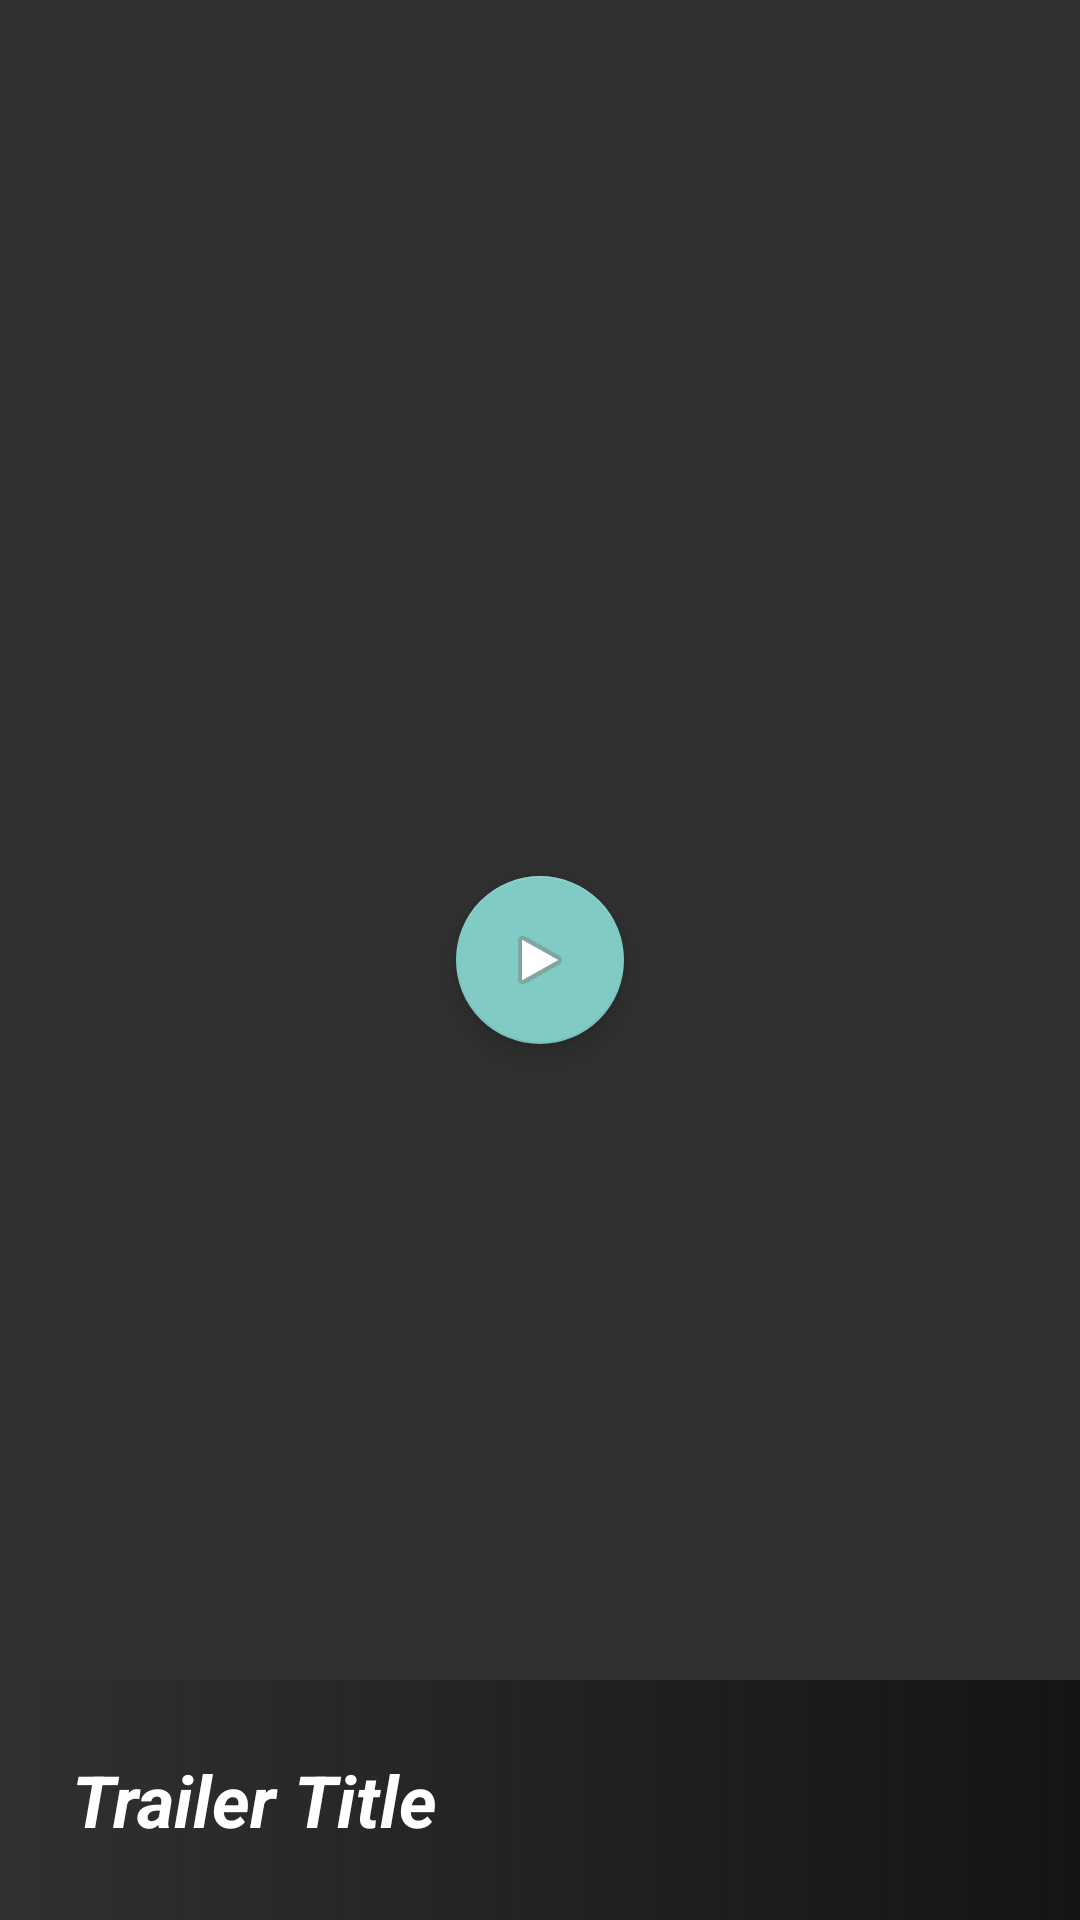

Locate icon controls on the screen. Image size 1080 × 1920, boxes as BBox(x1, y1, x2, y2).
play: BBox(456, 876, 624, 1044)
